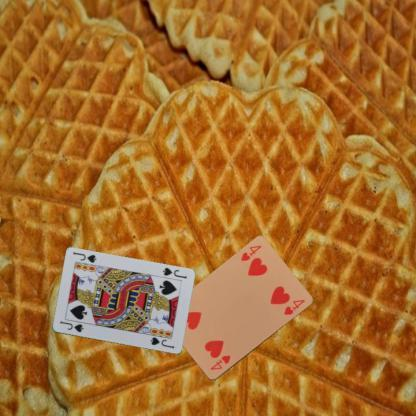4h: (238, 243, 263, 263), (208, 352, 232, 372)
Js: (159, 265, 188, 280), (58, 318, 84, 334)
